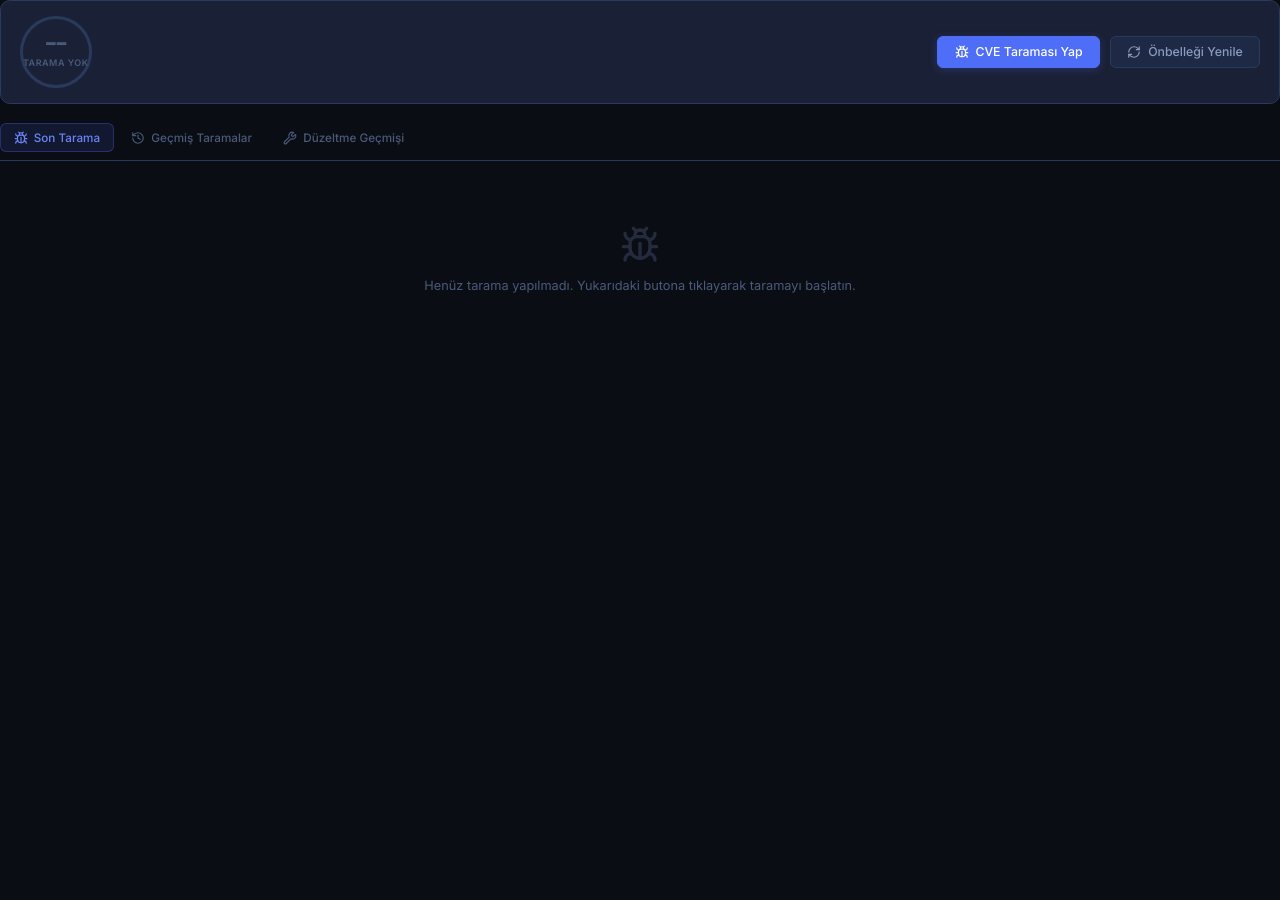
Test case: VulnerabilityScanner Bileşeni › toplu düzeltme modalı ve raporu görüntülenmeli
Step 1. Click the button "CVE Taraması Yap" → (1019, 52), box [937,36,1100,68]
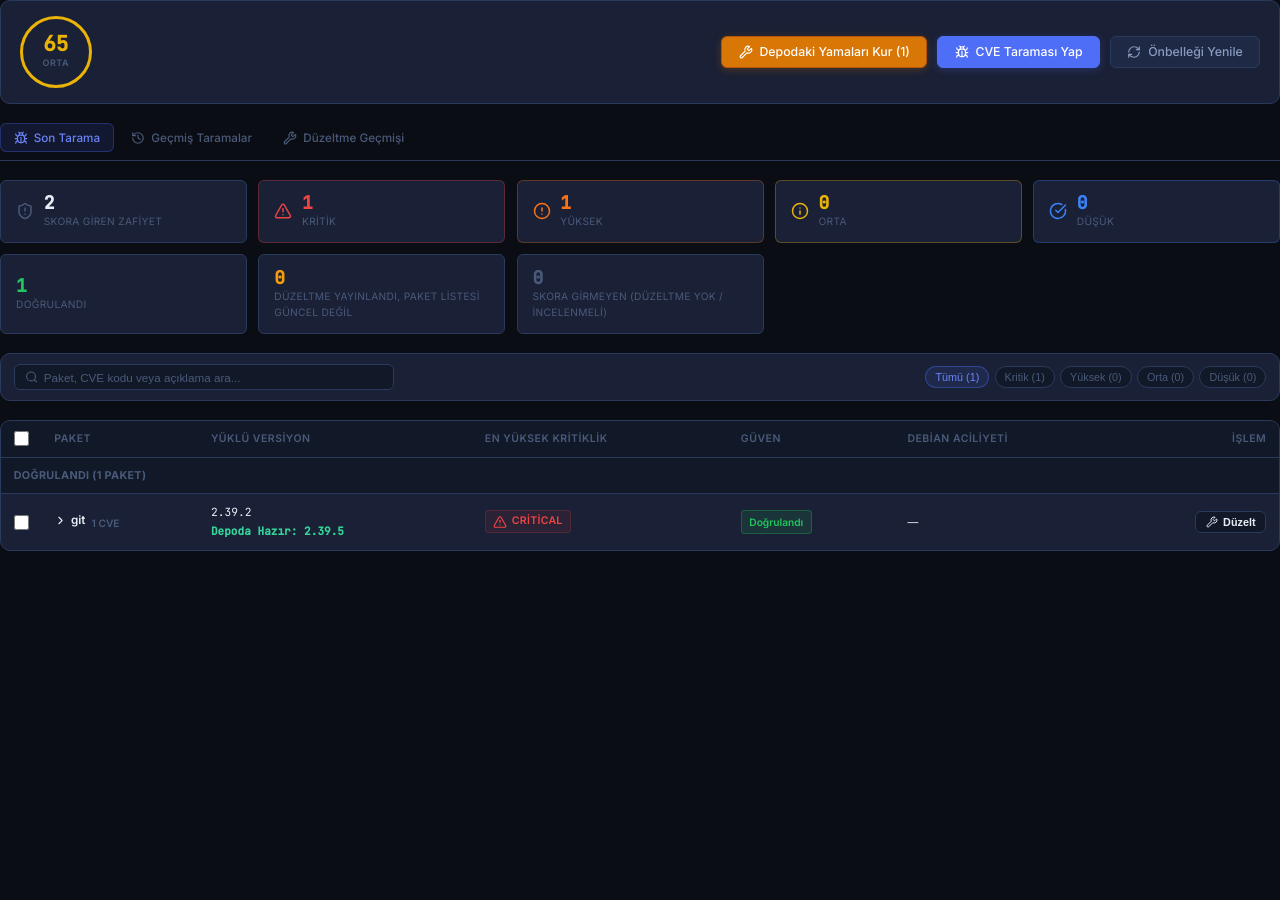
Check: the button "git" is shown, box [54,511,86,530]
Step 2. Click the button "Depodaki Yamaları Kur (1)" → (824, 52), box [721,36,927,68]
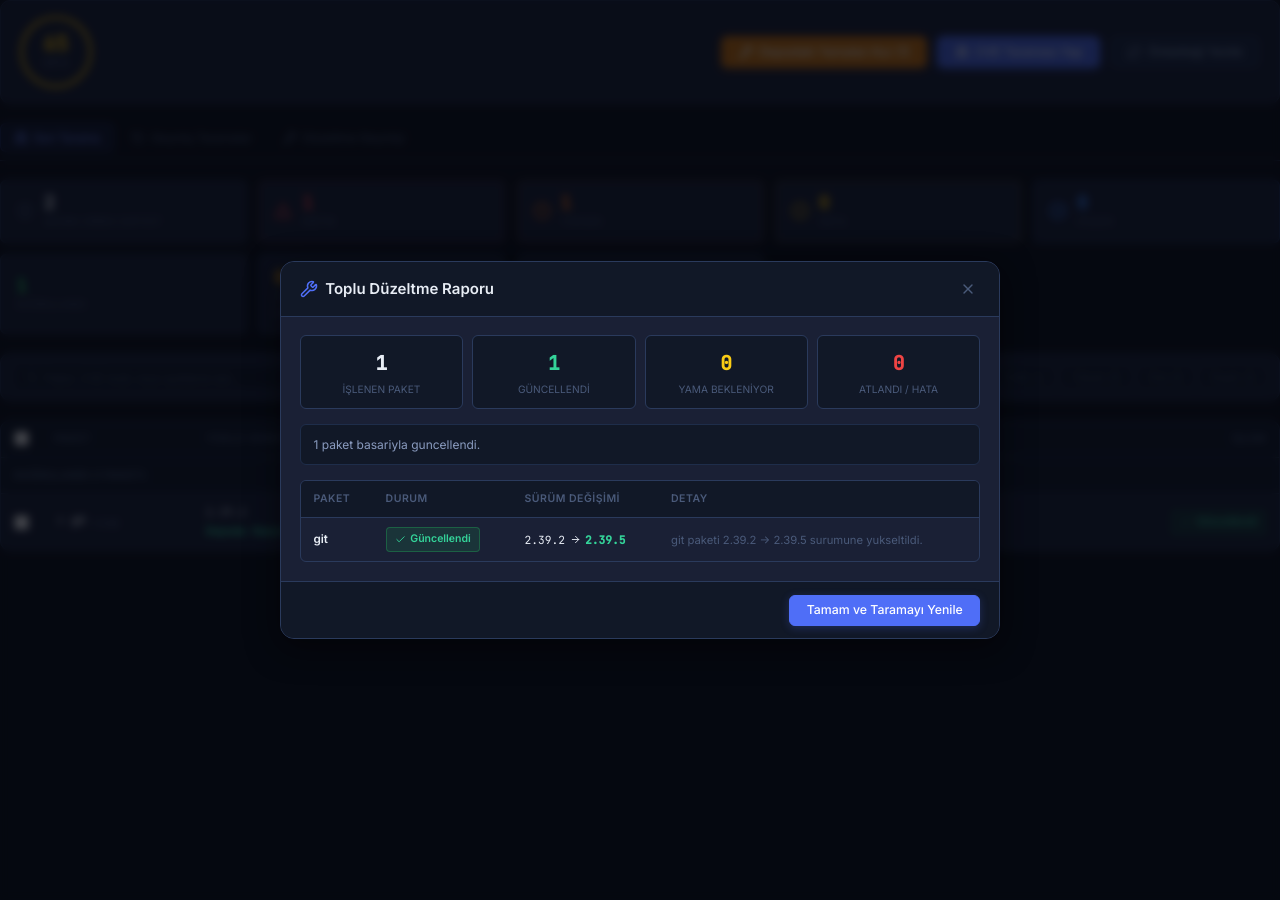
Check: the heading "Toplu Düzeltme Raporu" is shown, box [325,277,494,301]
Check: the text "İşlenen Paket" is shown, box [342,381,420,397]
Check: the button "Tamam ve Taramayı Yenile" is shown, box [789,595,980,626]
